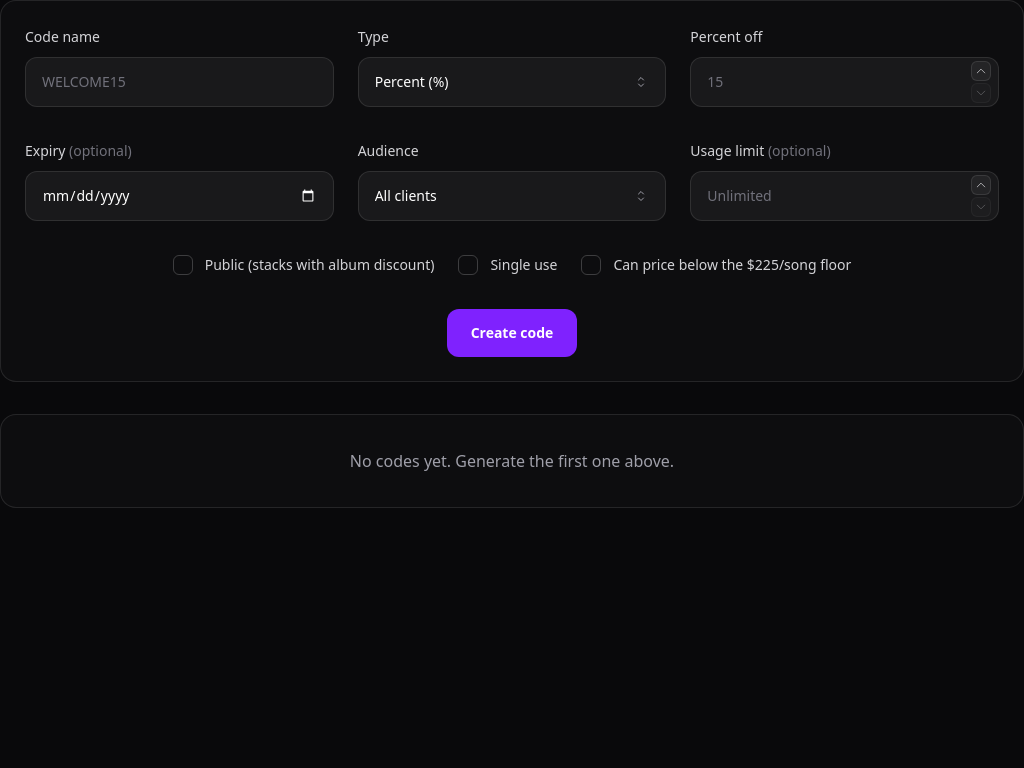
Test: DiscountCodesAdmin › shows the API error when creation fails
Type "SUMMER20" into the field labelled "Code name" at [179, 82], box left=25, top=57, right=334, bottom=107
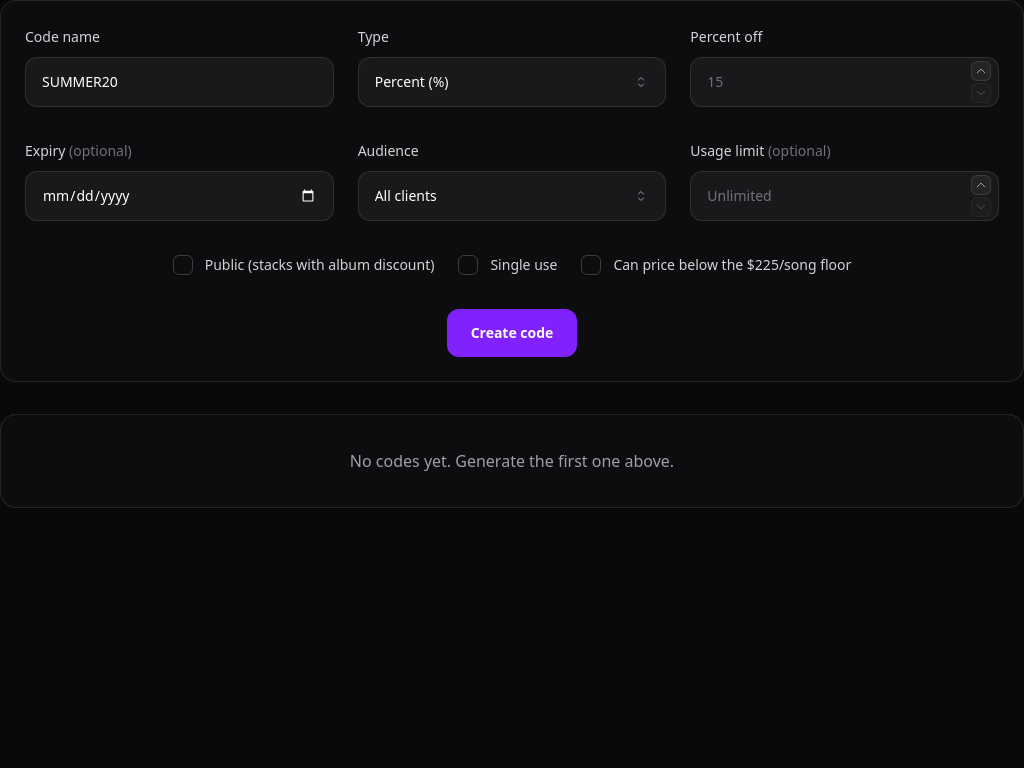
Type "20" into the number field labelled "Percent off" at [845, 82], box left=690, top=57, right=999, bottom=107
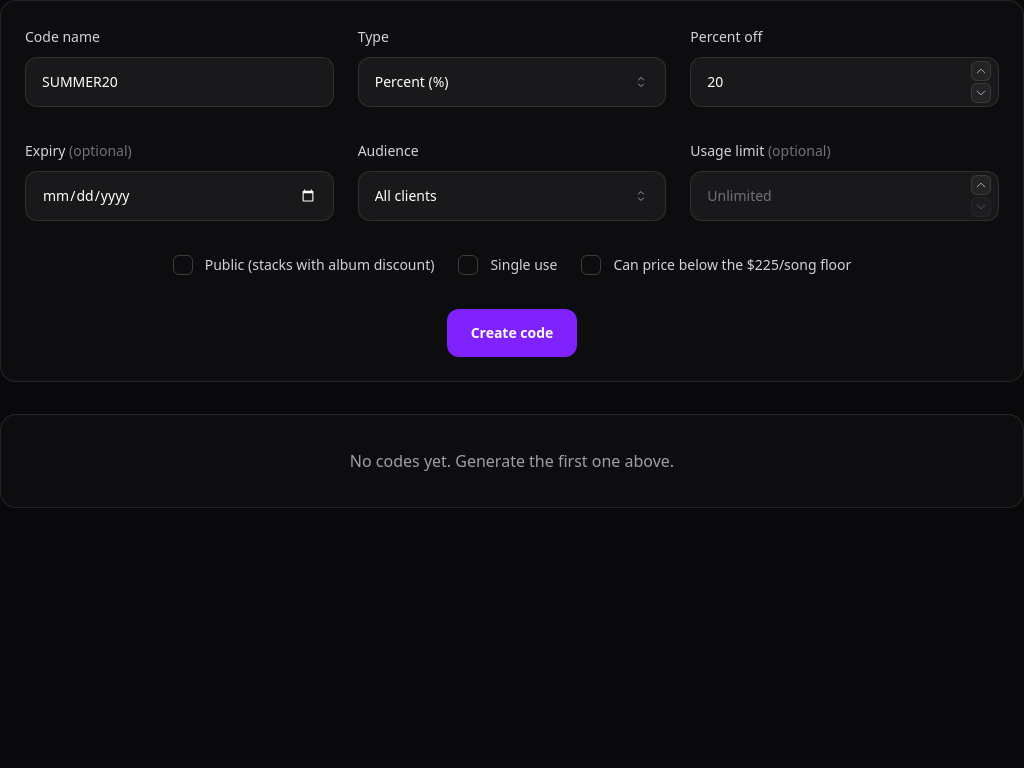
Click the button "Create code" at [512, 333], box left=447, top=309, right=577, bottom=357
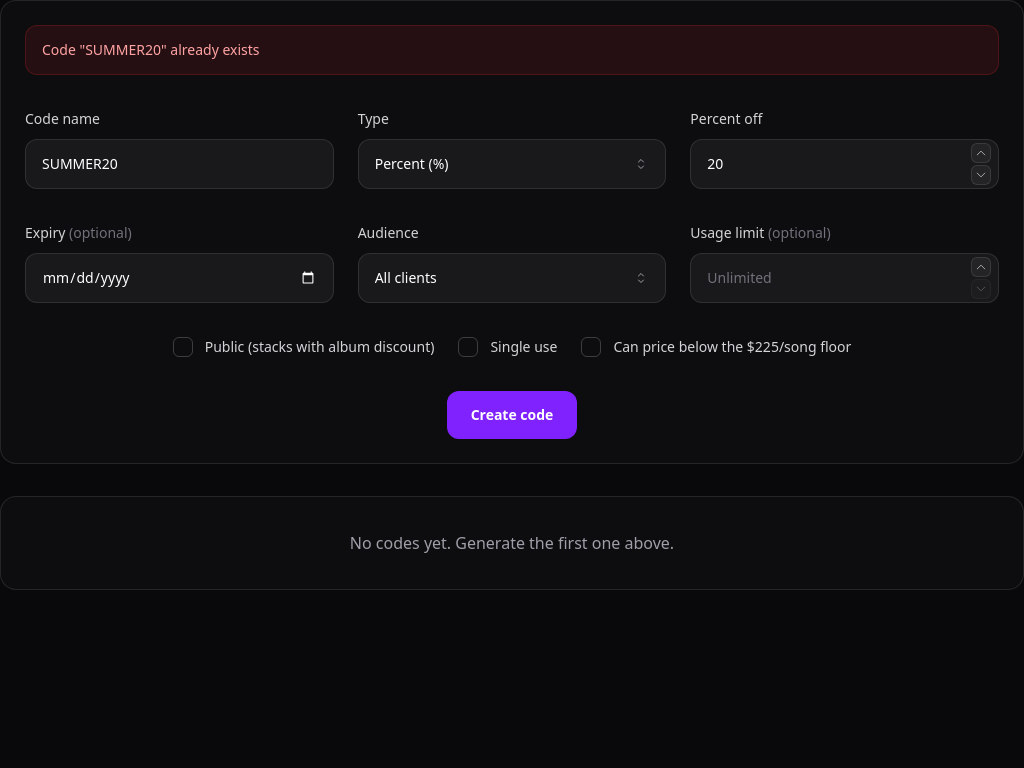
Expected: the message reads "Code \"SUMMER20\" already exists", left=42, top=40, right=260, bottom=59
